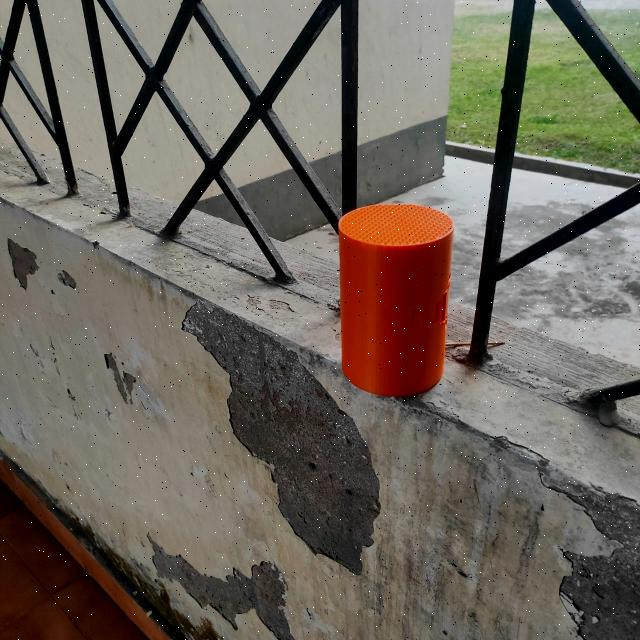Cylinder: (336, 201, 454, 397)
